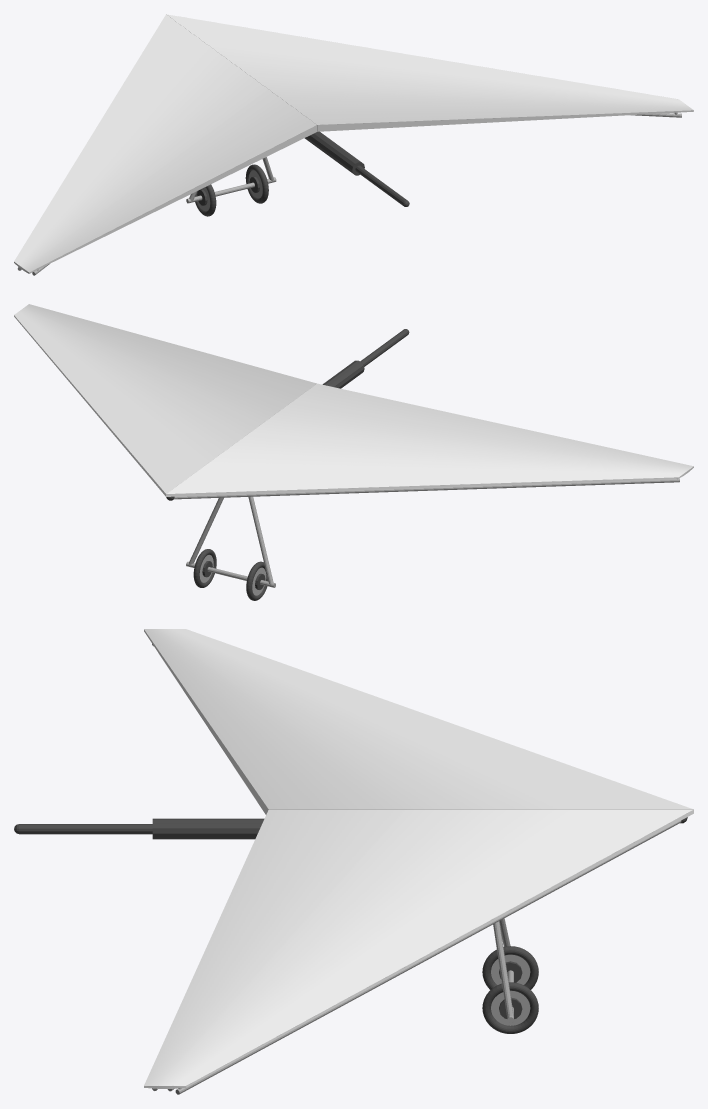
File: hang-glider.glb
3 renders of one model, top to bottom at view 1: azimuth 30°, elevation 25°; view 2: azimuth 150°, elevation 25°; view 3: azimuth 270°, elevation 25°, orthographic. The views are drawn at different scales.
Visible parts, largest first — view 1: Node; view 2: Node; view 3: Node.
Part boxes in pixels (x1=…): Node: x1=14, y1=14, x2=693, y2=275; Node: x1=14, y1=304, x2=693, y2=600; Node: x1=14, y1=629, x2=693, y2=1094.
Bounding box in the file's own units: 1 × 0.2107 × 0.6293.
Materials: 1 (1 with a texture image).
